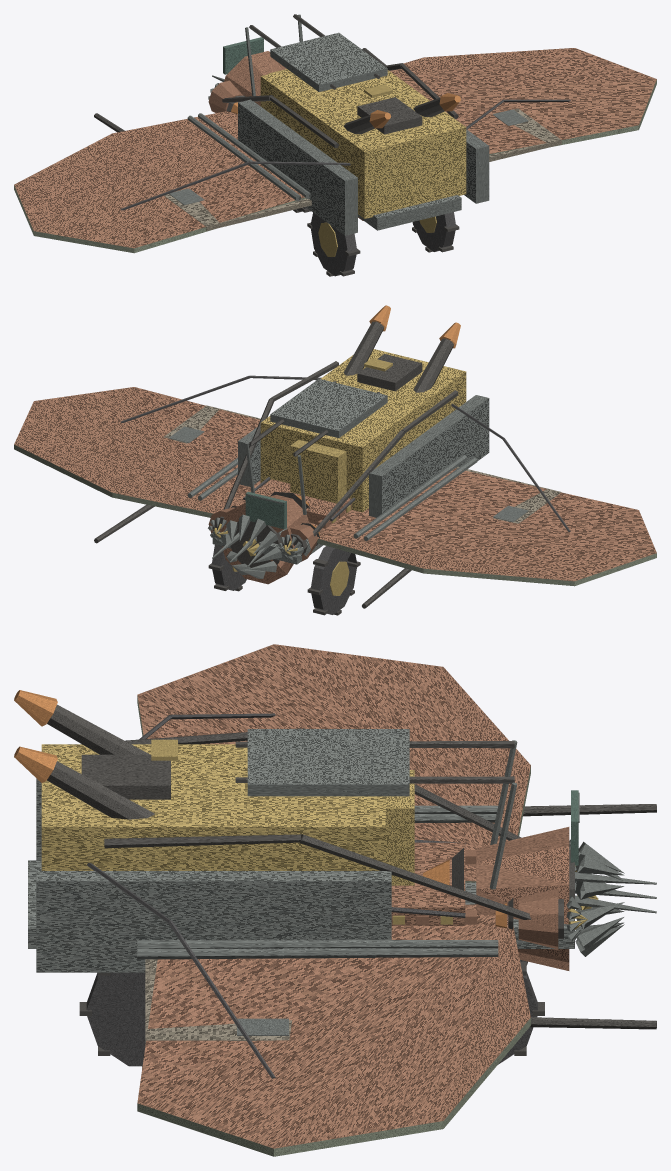
The model's file is penitent_cathedral.glb.
3 renders of one model, top to bottom at view 1: azimuth 30°, elevation 25°; view 2: azimuth 150°, elevation 25°; view 3: azimuth 270°, elevation 25°, orthographic. The views are drawn at different scales.
Parts seen in each view (by area): view 1: penitent_cathedral; view 2: penitent_cathedral; view 3: penitent_cathedral.
Boxes of the visible parts, left/top/right/bottom form: penitent_cathedral: left=14, top=14, right=656, bottom=276; penitent_cathedral: left=14, top=305, right=656, bottom=615; penitent_cathedral: left=14, top=644, right=656, bottom=1156.
Bounding box in the file's own units: 21.4 × 6.11 × 11.53.
9 materials, 9 textured.
